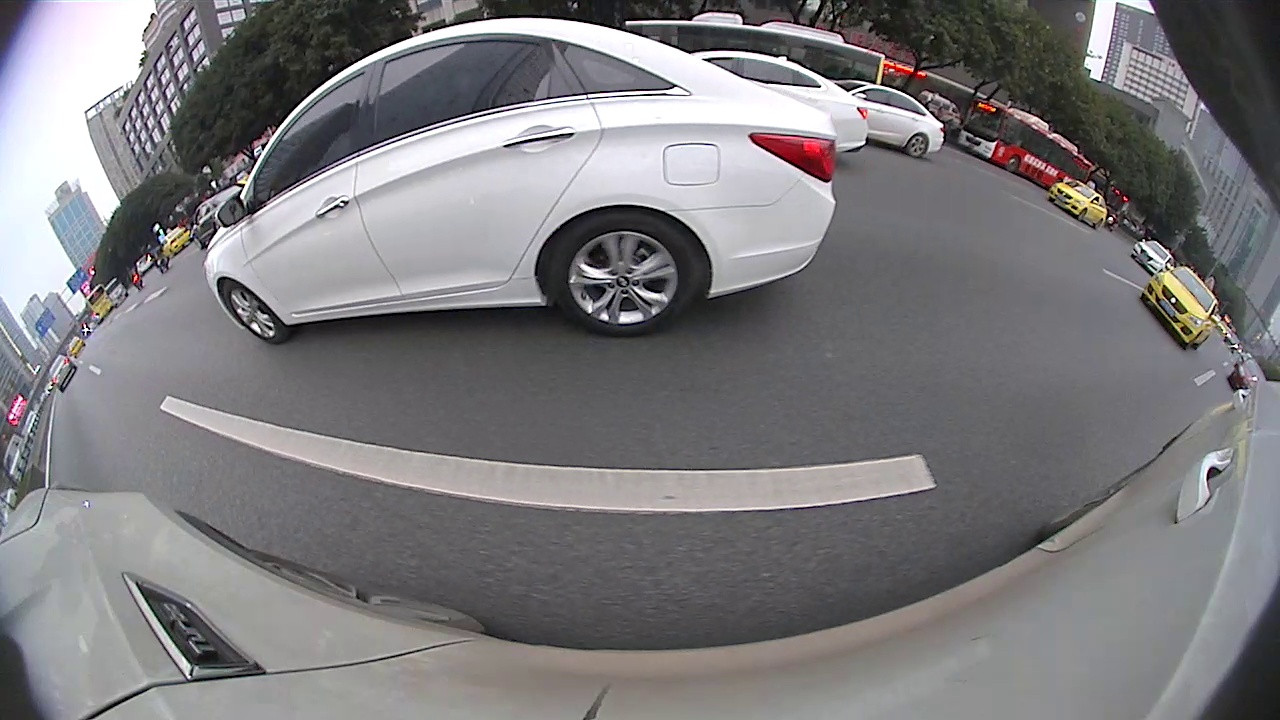bus: (619, 12, 886, 109), (955, 96, 1092, 192)
car: (206, 17, 835, 347), (673, 51, 867, 155), (827, 81, 945, 159), (1140, 264, 1219, 351), (192, 182, 252, 250), (1046, 179, 1107, 229), (1132, 239, 1174, 278)
front: (222, 278, 290, 342)
rear: (540, 212, 700, 332), (907, 135, 927, 155)
